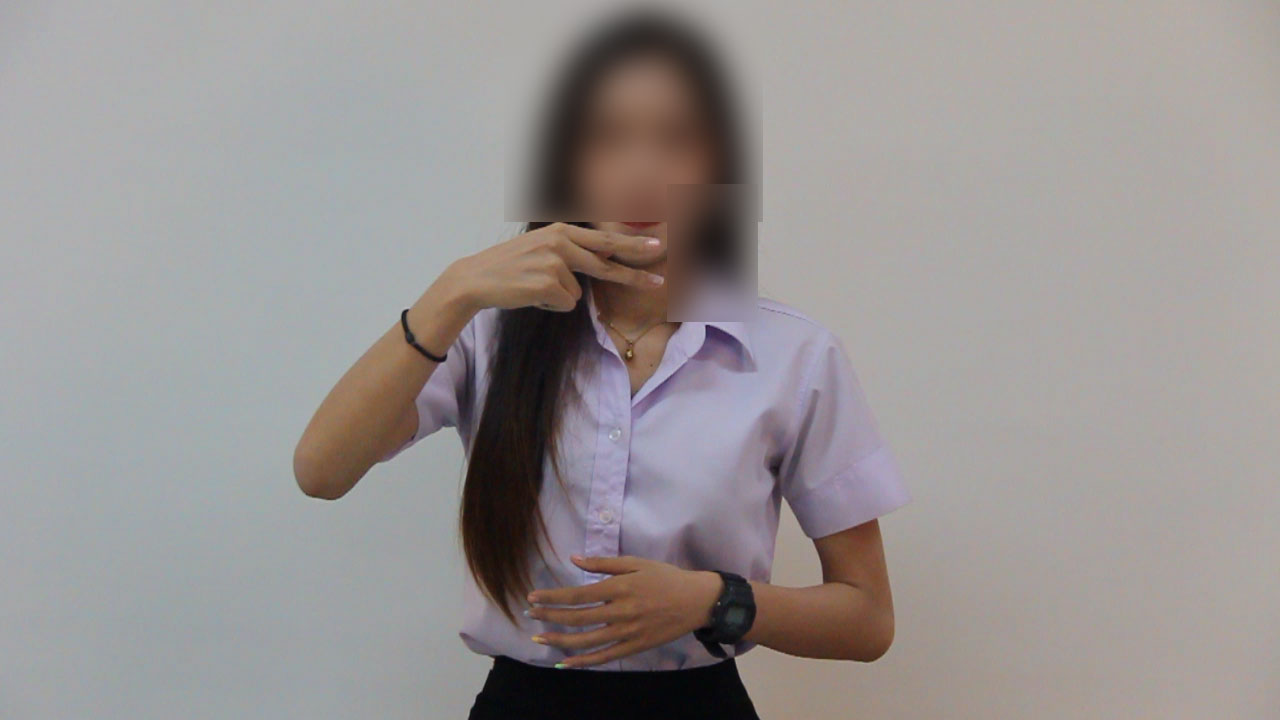hor: (432, 211, 676, 327)
